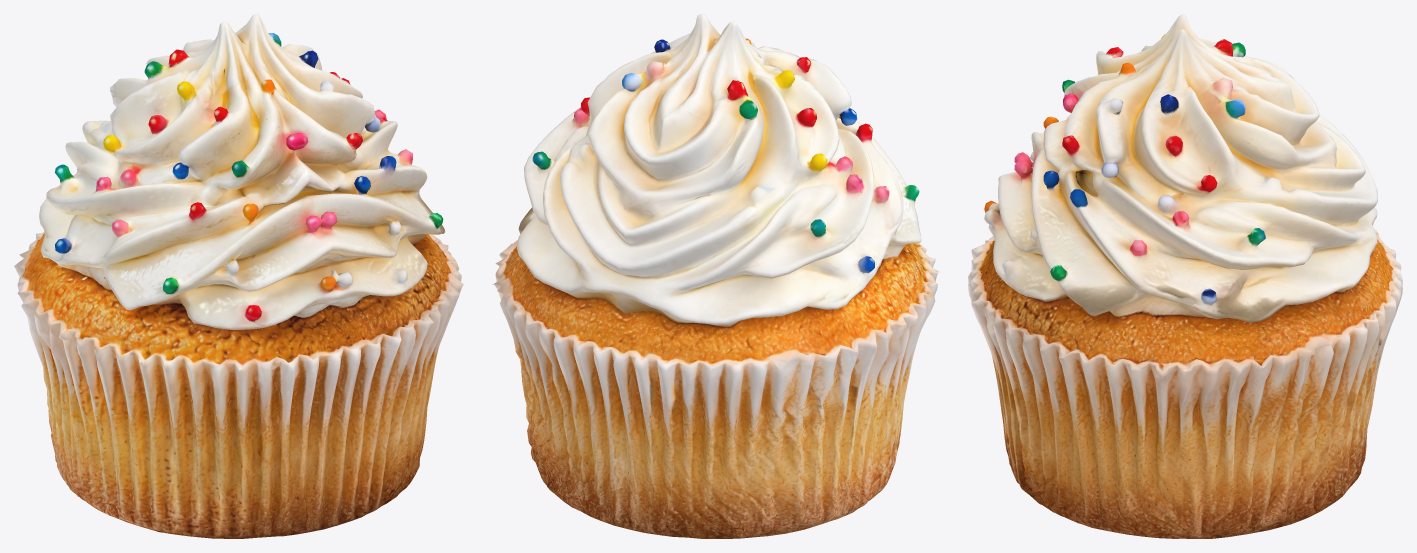
File: vanilacup.glb
3 views of the same model, side by side, from view 1: azimuth 30°, elevation 25°; view 2: azimuth 150°, elevation 25°; view 3: azimuth 270°, elevation 25° (orthographic).
Visible parts, largest first — view 1: model; view 2: model; view 3: model.
Part boxes in pixels (<box>): model: <box>14,14,463,538</box>; model: <box>492,14,939,538</box>; model: <box>968,14,1402,538</box>.
Bounding box in the file's own units: 0.8887 × 1 × 0.8853.
Materials: 1 (1 with a texture image).
